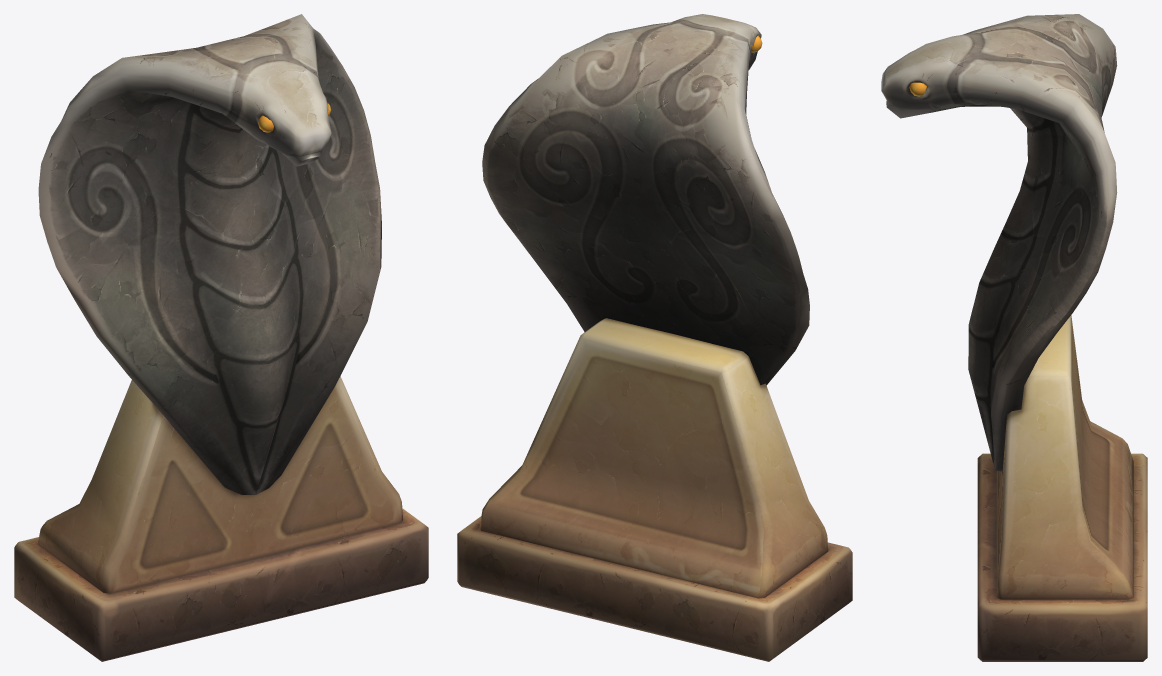
File: DE_Statue_01.fbx
3 renders of one model, left to right at view 1: azimuth 30°, elevation 25°; view 2: azimuth 150°, elevation 25°; view 3: azimuth 270°, elevation 25°, orthographic. The views are drawn at different scales.
Visible parts, largest first — view 1: DE_Statue_01; view 2: DE_Statue_01; view 3: DE_Statue_01.
Boxes of the visible parts, x1,y1,x2,y2 form: DE_Statue_01: [14, 14, 428, 661]; DE_Statue_01: [457, 14, 852, 661]; DE_Statue_01: [881, 14, 1147, 661].
Size of the model in its own units: 2.35 by 3.82 by 1.7.
